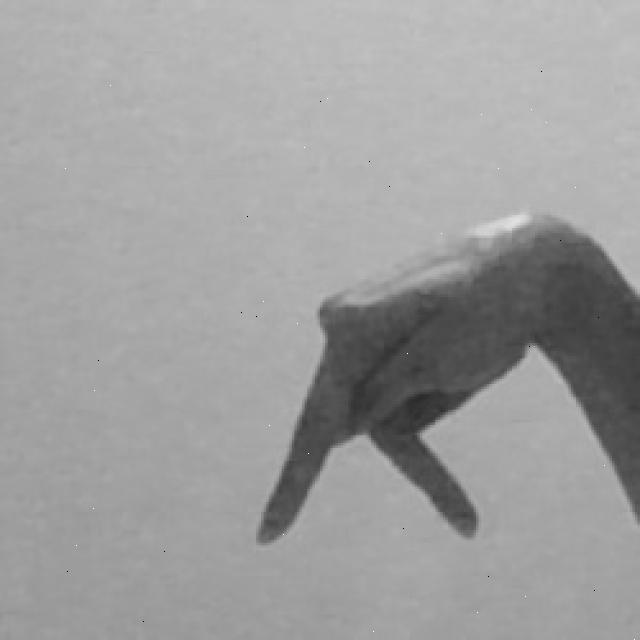P: (250, 203, 640, 555)
